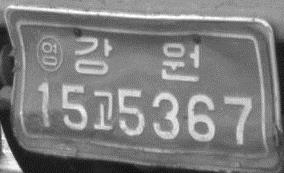1: (34, 80, 54, 129)
3: (150, 90, 180, 141)
5: (59, 81, 89, 132), (116, 85, 146, 136)
6: (187, 92, 216, 142)
7: (222, 94, 254, 147)
강원_D: (72, 34, 202, 84)
고: (91, 89, 116, 131)
영: (35, 32, 66, 75)
